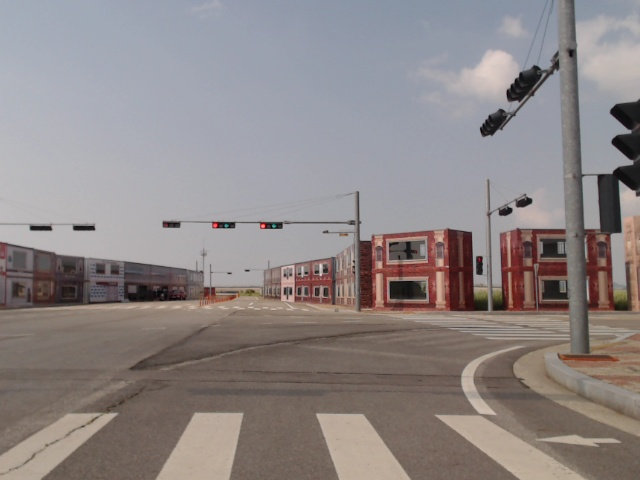left_green_4: (213, 222, 235, 228), (261, 223, 283, 228)
